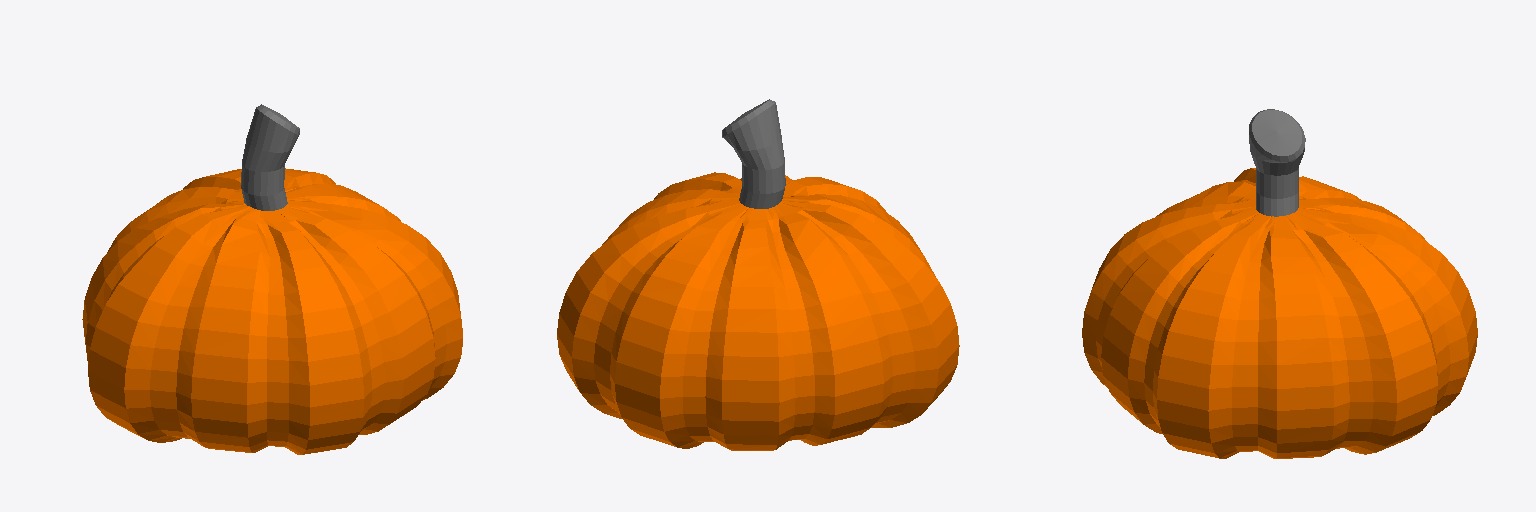
The model's file is Pumpkin.obj.
3 views of the same model, side by side, from view 1: azimuth 30°, elevation 25°; view 2: azimuth 150°, elevation 25°; view 3: azimuth 270°, elevation 25° (orthographic).
Parts seen in each view (by area): view 1: Orange Pumpkin, Pumpkin Stem; view 2: Orange Pumpkin, Pumpkin Stem; view 3: Orange Pumpkin, Pumpkin Stem.
Boxes of the visible parts, box(x1,y1,x2,y2) form: Orange Pumpkin: box(82, 168, 462, 454); Pumpkin Stem: box(241, 104, 299, 210); Orange Pumpkin: box(557, 172, 959, 450); Pumpkin Stem: box(722, 99, 785, 208); Orange Pumpkin: box(1082, 168, 1477, 458); Pumpkin Stem: box(1249, 109, 1305, 216).
Size of the model in its own units: 9.67 by 8.13 by 9.78.